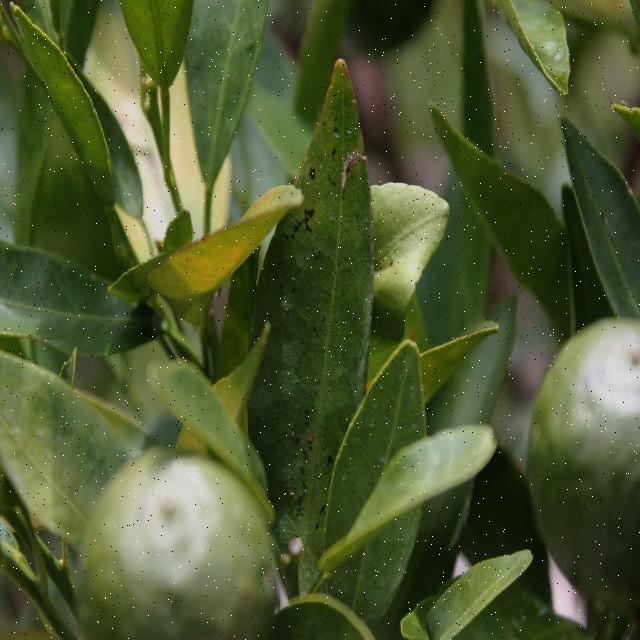blackspot: (262, 151, 366, 531), (376, 200, 436, 289)
